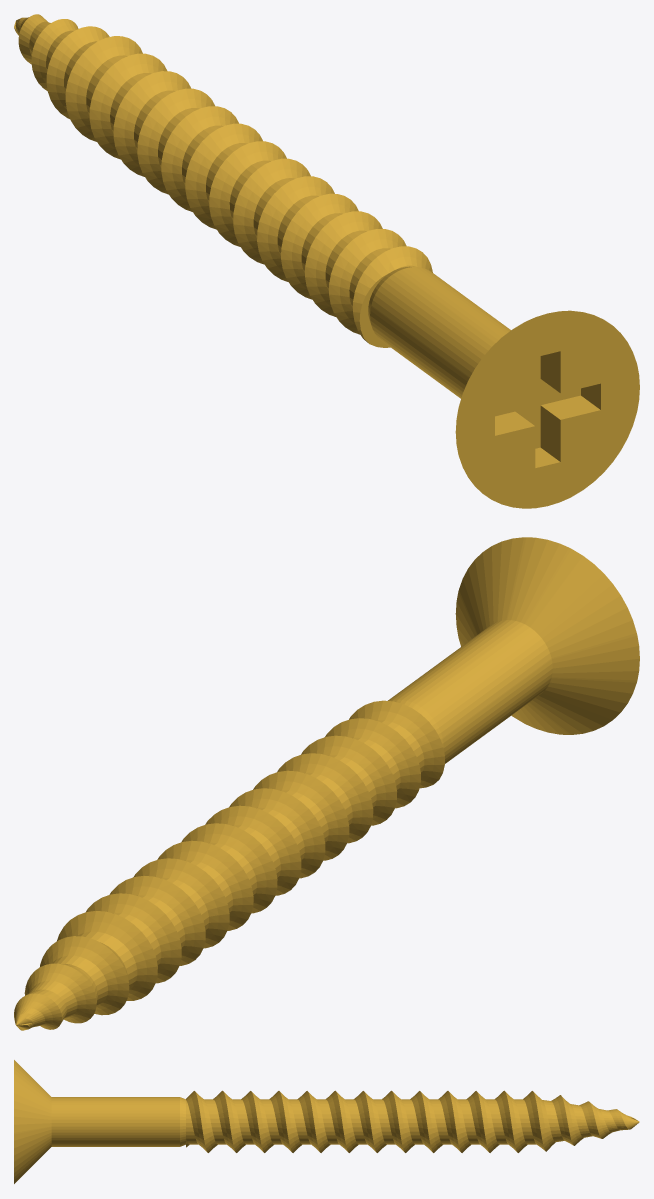
Rendered from parafuso_4_0_x_40mm_phillips.obj.
The picture shows the model from 3 angles, top to bottom: view 1: azimuth 30°, elevation 25°; view 2: azimuth 150°, elevation 25°; view 3: azimuth 270°, elevation 25°; orthographic projection. The views are drawn at different scales.
Parts seen in each view (by area): view 1: parafuso_4_0_x_40mm_phillips; view 2: parafuso_4_0_x_40mm_phillips; view 3: parafuso_4_0_x_40mm_phillips.
Boxes of the visible parts, left/top/right/bottom form: parafuso_4_0_x_40mm_phillips: left=14, top=14, right=639, bottom=508; parafuso_4_0_x_40mm_phillips: left=14, top=537, right=639, bottom=1030; parafuso_4_0_x_40mm_phillips: left=14, top=1060, right=639, bottom=1183.
Bounding box in the file's own units: 8 × 8 × 40.
